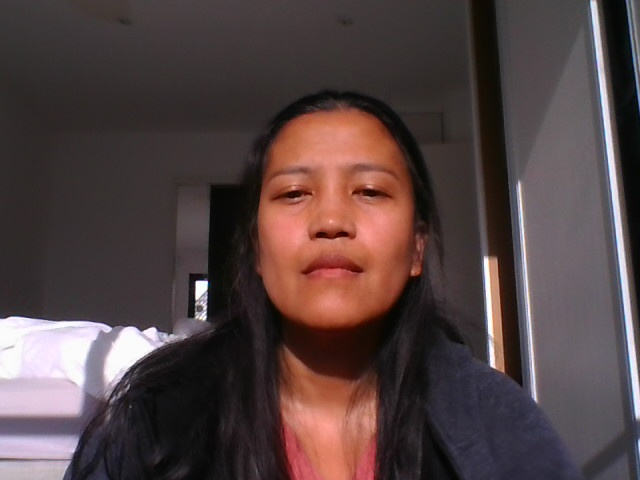face: (257, 98, 415, 330)
